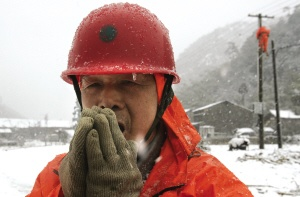red: (61, 3, 176, 144)
